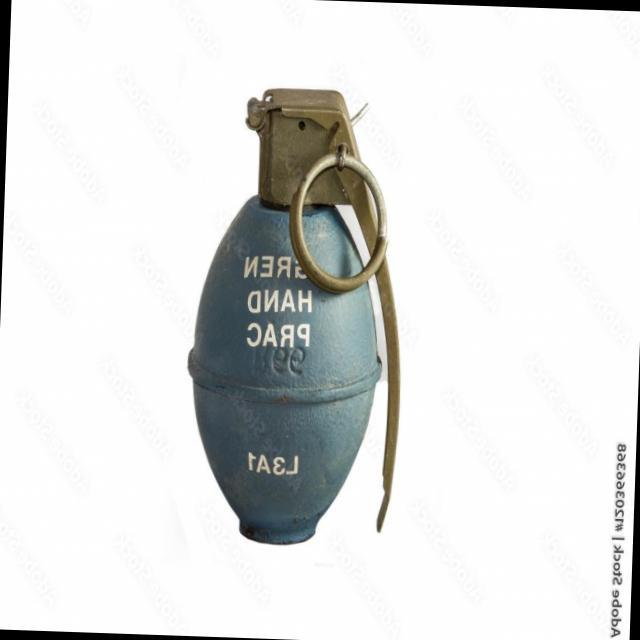grenade: (178, 66, 417, 560)
